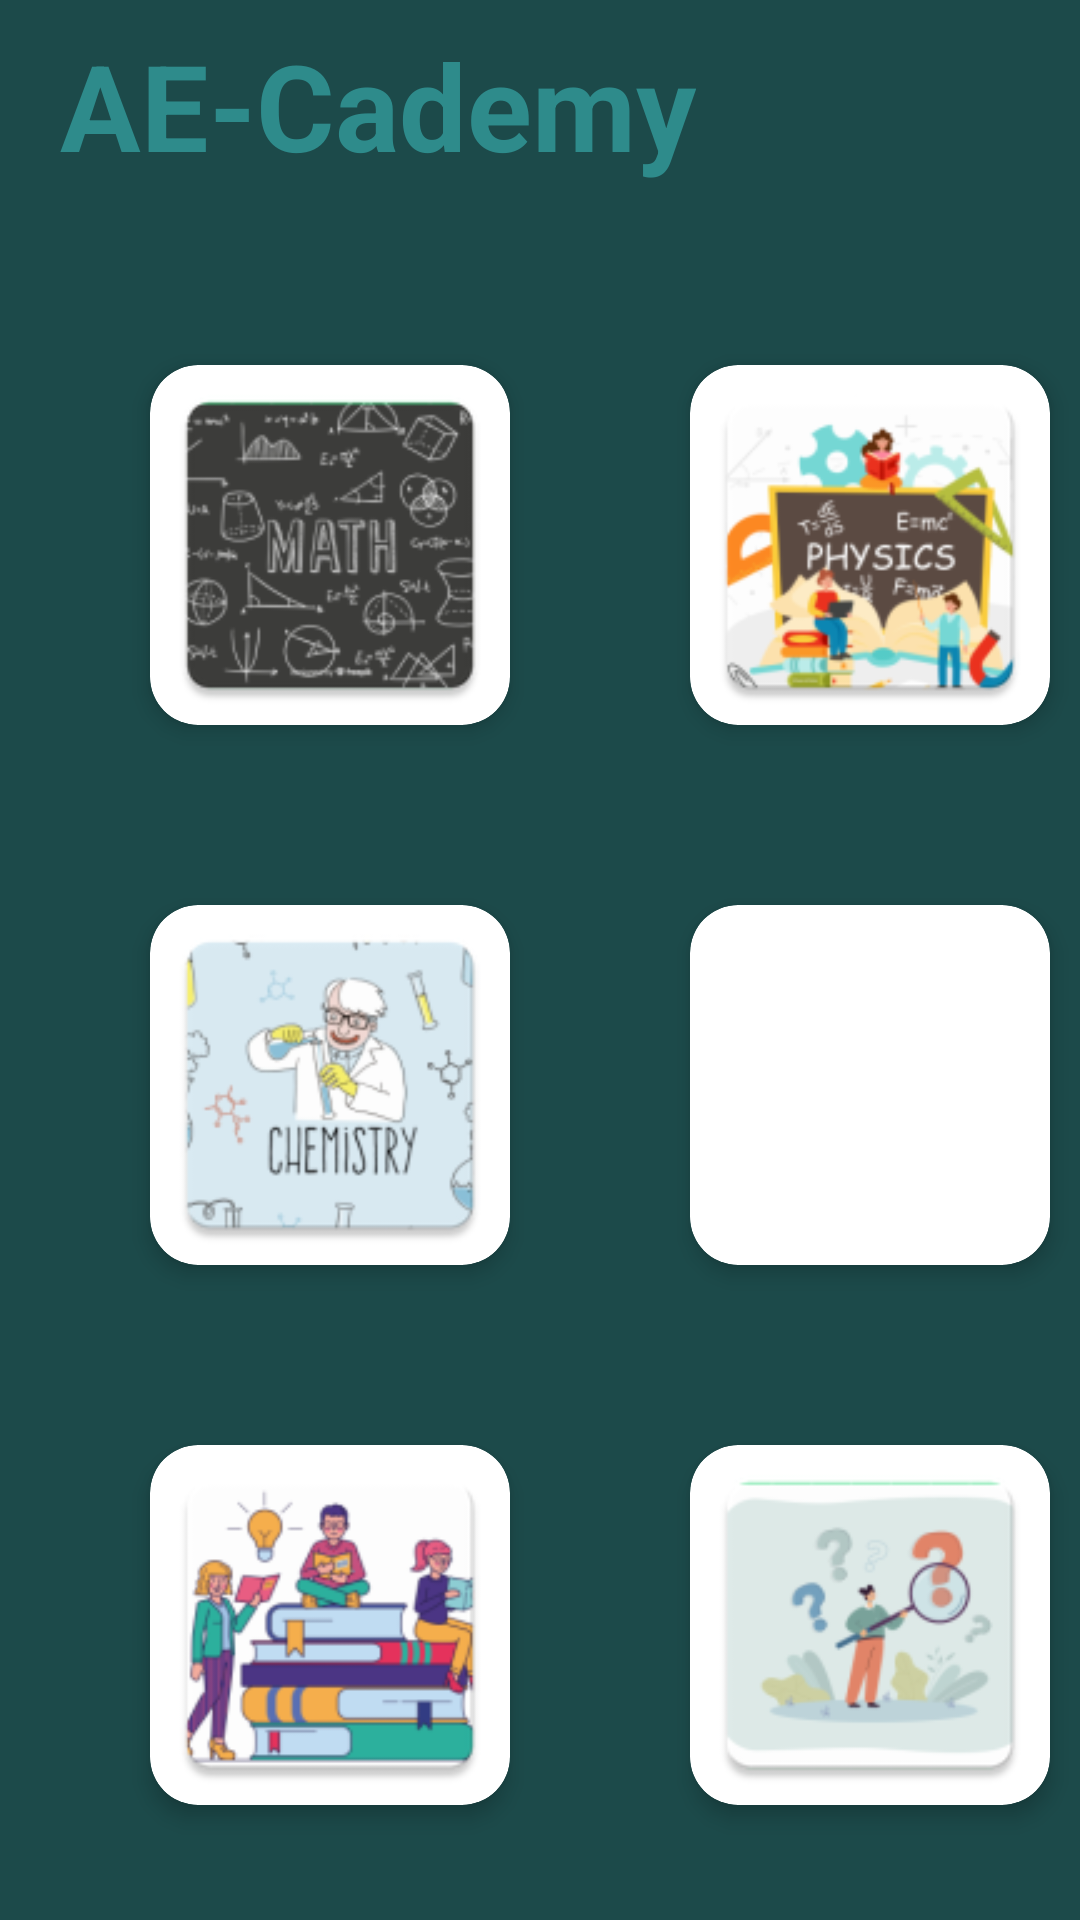

Screen size 1080 × 1920. Icon name, then its box in pixels as (x1, y1, x2, y2):
reasoning: (690, 1445, 1050, 1805)
